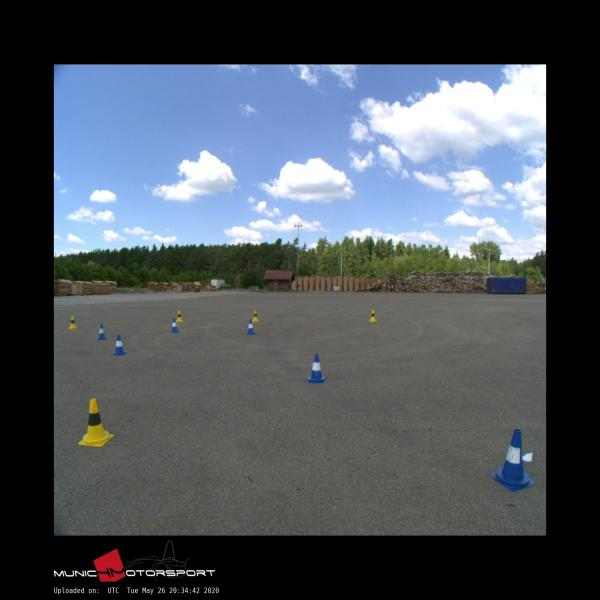blue_cone: (491, 428, 534, 488), (307, 352, 327, 383), (112, 335, 126, 354), (96, 324, 107, 339), (246, 319, 255, 334), (169, 319, 178, 333)
yellow_cone: (78, 398, 113, 446), (68, 315, 77, 328), (368, 309, 377, 321), (175, 310, 183, 321), (252, 309, 259, 321)
